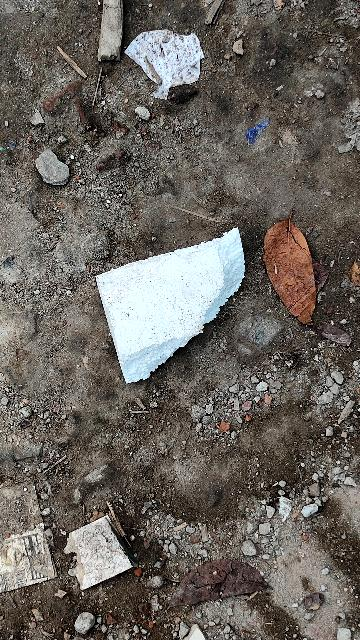packet: (58, 182, 283, 390)
